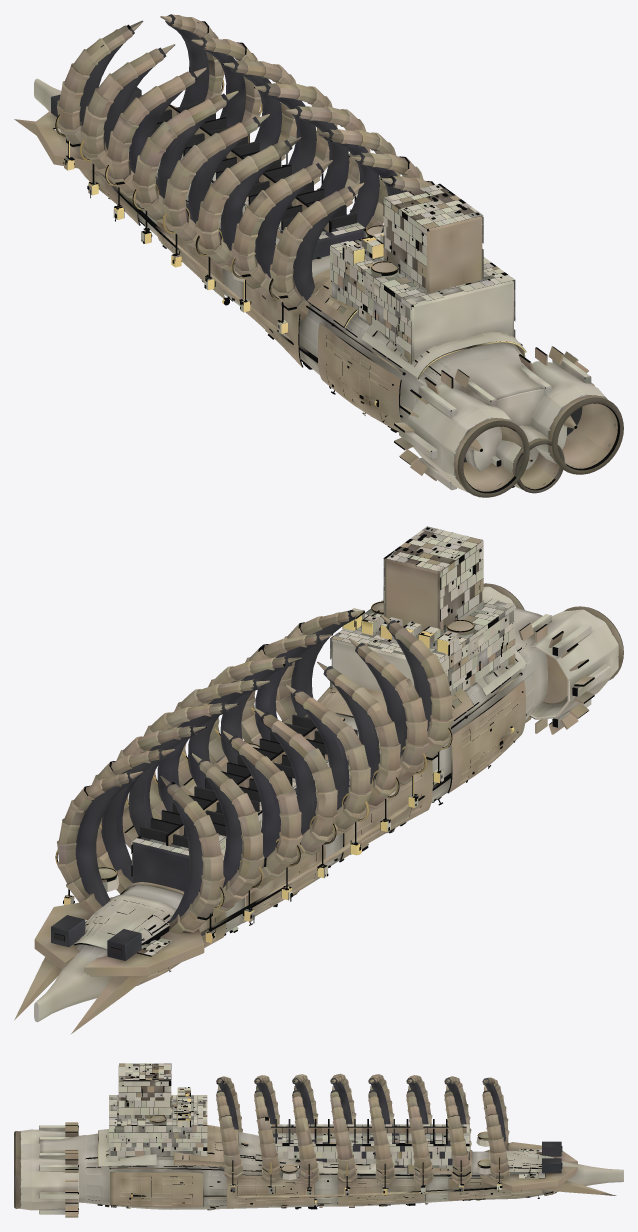
File: ashen_pilgrim_hero.glb
3 renders of one model, top to bottom at view 1: azimuth 30°, elevation 25°; view 2: azimuth 150°, elevation 25°; view 3: azimuth 270°, elevation 25°, orthographic. The views are drawn at different scales.
Parts seen in each view (by area): view 1: HullBaked; view 2: HullBaked; view 3: HullBaked.
Boxes of the visible parts, x1=… form: HullBaked: x1=14, y1=14, x2=623, y2=497; HullBaked: x1=14, y1=526, x2=623, y2=1033; HullBaked: x1=14, y1=1063, x2=623, y2=1217.
Size of the model in its own units: 219 by 222 by 930.
1 material, 1 textured.
